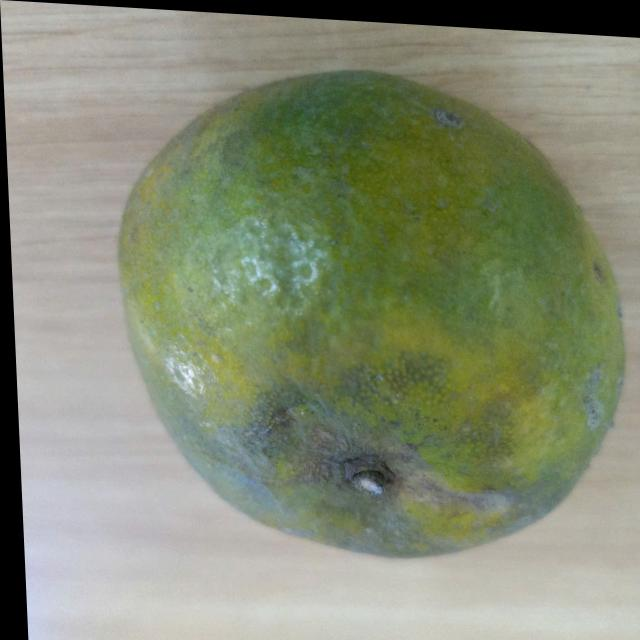Cam: (87, 53, 626, 572)
